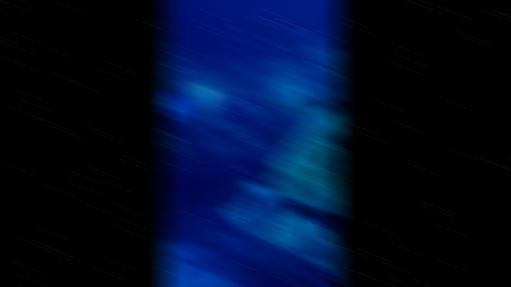Fish: (284, 197, 341, 246), (283, 25, 328, 46), (284, 25, 319, 46), (306, 95, 341, 116), (161, 101, 190, 114), (205, 206, 232, 217), (280, 100, 301, 113), (162, 133, 183, 146), (266, 162, 283, 177), (168, 141, 185, 154), (326, 131, 341, 144), (264, 127, 281, 138), (255, 8, 280, 15), (262, 38, 281, 47), (311, 248, 326, 259), (278, 136, 293, 147), (313, 27, 328, 38), (170, 65, 189, 72), (238, 39, 255, 46), (197, 137, 210, 146), (243, 151, 256, 158), (163, 23, 176, 30), (259, 93, 272, 100), (245, 131, 258, 138), (230, 46, 243, 53), (235, 28, 248, 35), (242, 167, 252, 174), (175, 57, 188, 62)
